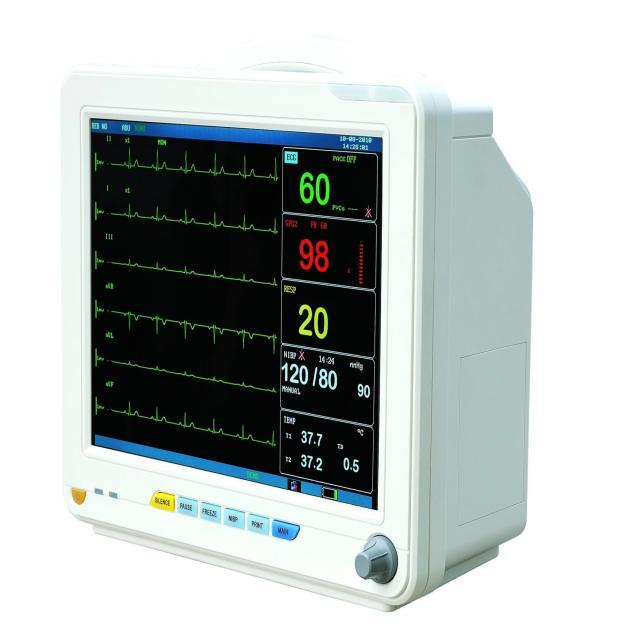Monitor: (60, 62, 533, 612)
